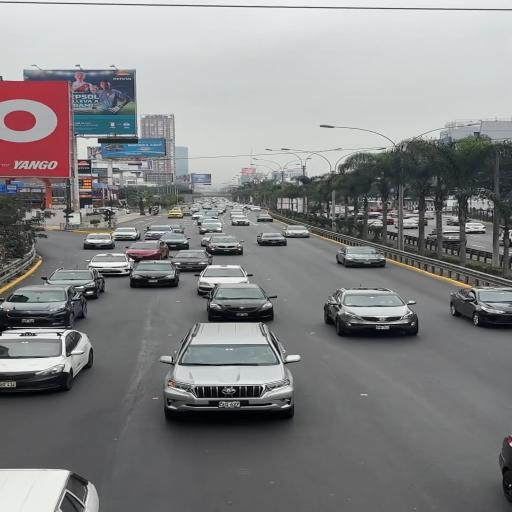auto: (159, 324, 299, 418), (0, 328, 95, 394), (323, 286, 418, 336), (0, 468, 101, 512), (0, 284, 86, 326), (201, 282, 277, 320), (447, 285, 510, 328), (42, 266, 106, 298), (194, 265, 254, 295), (128, 258, 183, 288), (83, 252, 134, 278), (335, 245, 389, 267), (123, 239, 171, 261), (168, 250, 212, 270), (203, 235, 245, 255), (438, 222, 486, 235), (158, 232, 192, 250), (82, 232, 116, 249), (424, 229, 464, 243), (110, 227, 142, 242), (142, 225, 174, 240), (256, 232, 288, 246), (281, 225, 311, 238), (393, 218, 420, 229)
